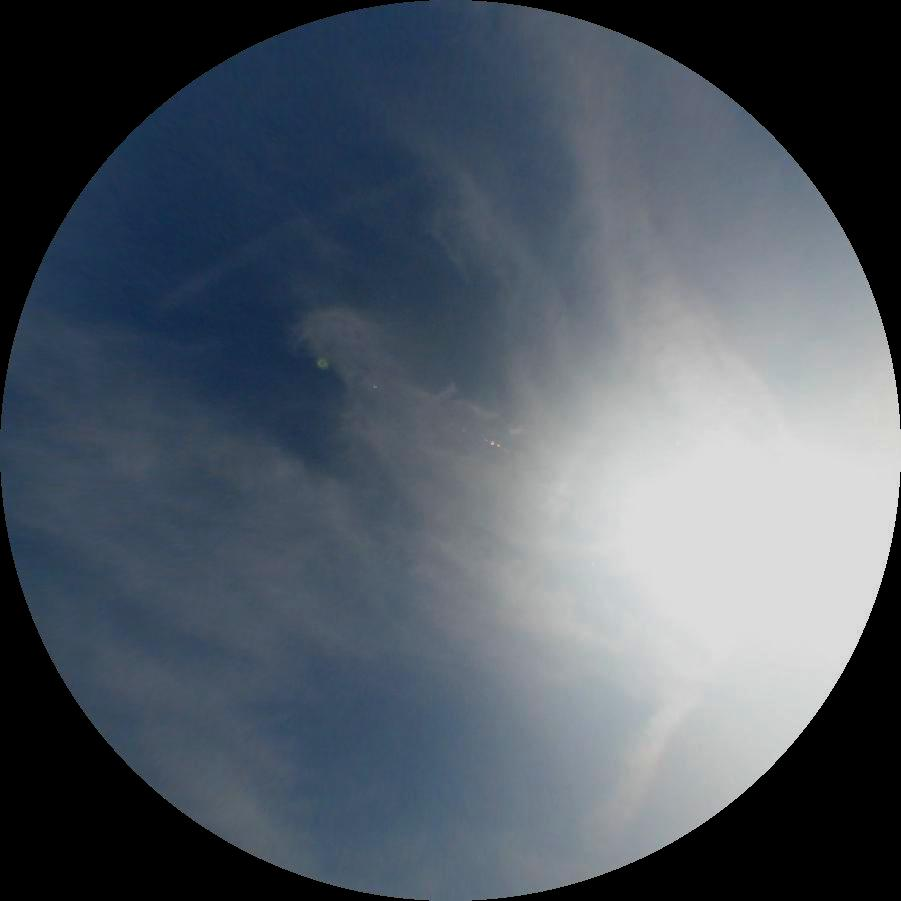contrail veryold: (145, 158, 431, 316), (562, 690, 695, 890)
sun: (617, 435, 821, 637)
